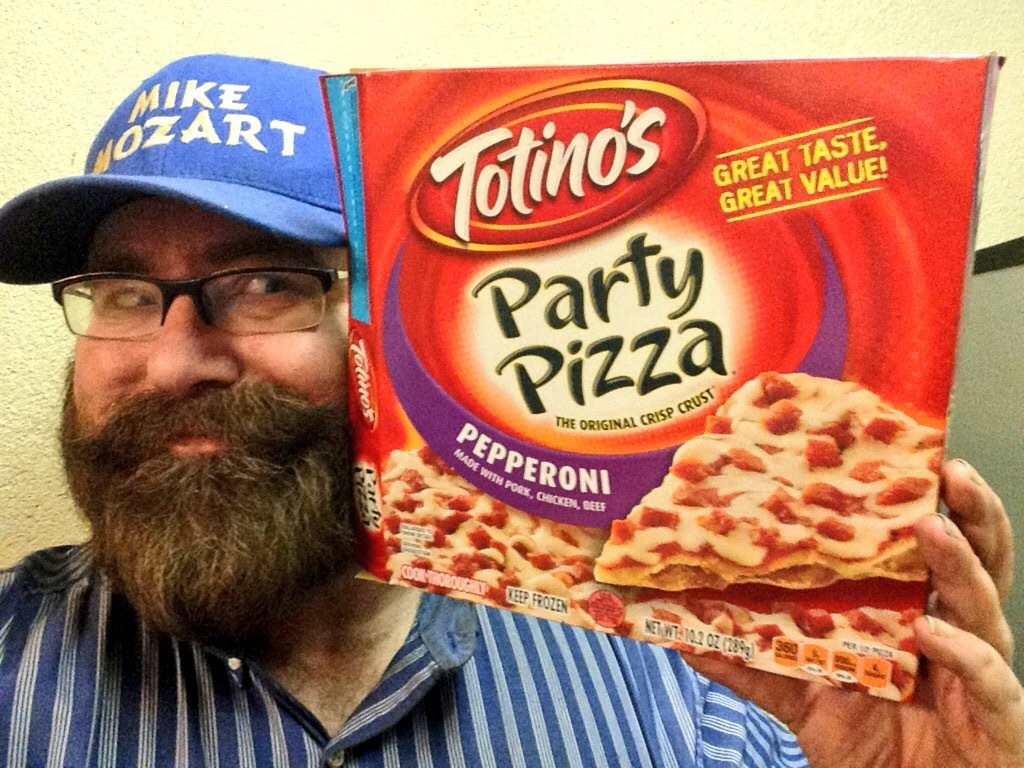Pizza: (376, 442, 924, 703)
